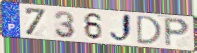3: (52, 10, 77, 39)
6: (83, 12, 104, 41)
7: (23, 6, 48, 37)
D: (136, 15, 164, 46)
J: (109, 13, 135, 45)
P: (163, 16, 191, 48)
